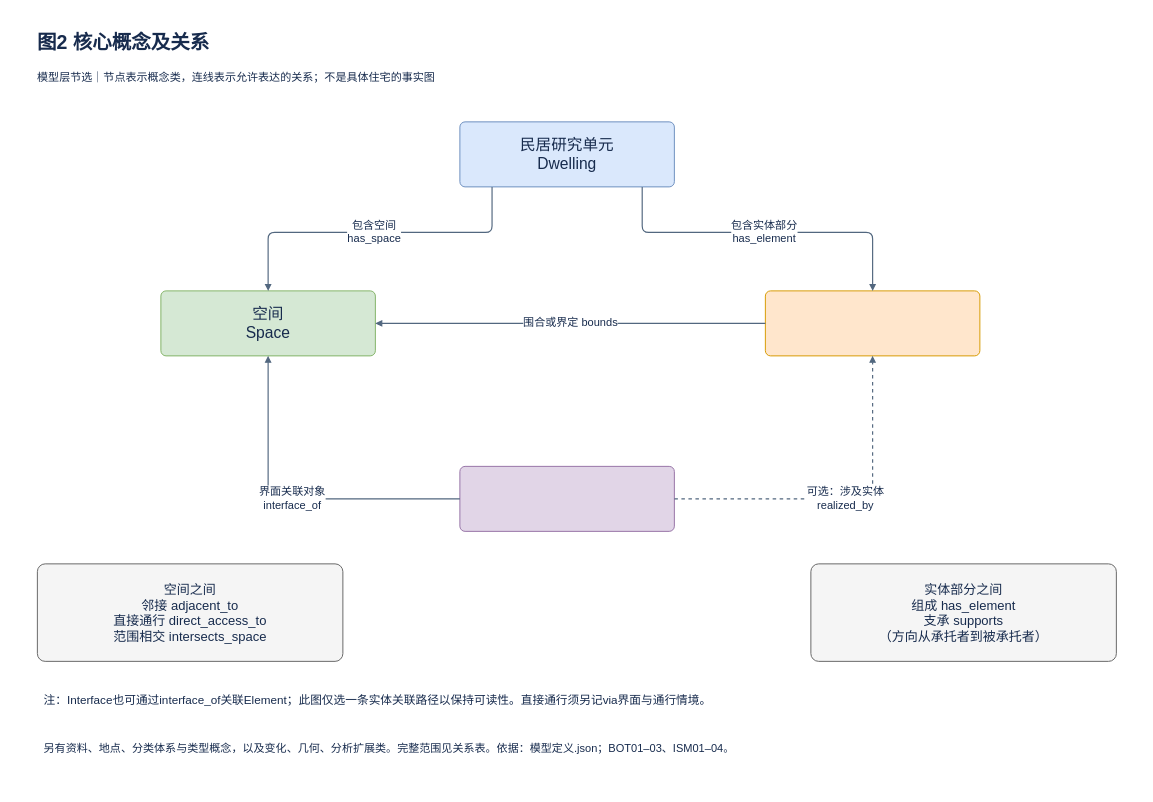
This 1153x802 diagram has some shape labels left out. The shapes that lost their labels are listed below. From the top down, each one's centre as x and y in pixels, then its label:
[872,323]: 建筑实体部分 Element
[567,499]: 界面 Interface
